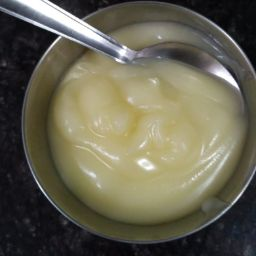Clarified Butter(ghee): (48, 91, 236, 202), (113, 28, 228, 209), (63, 62, 162, 218), (80, 109, 233, 180)
